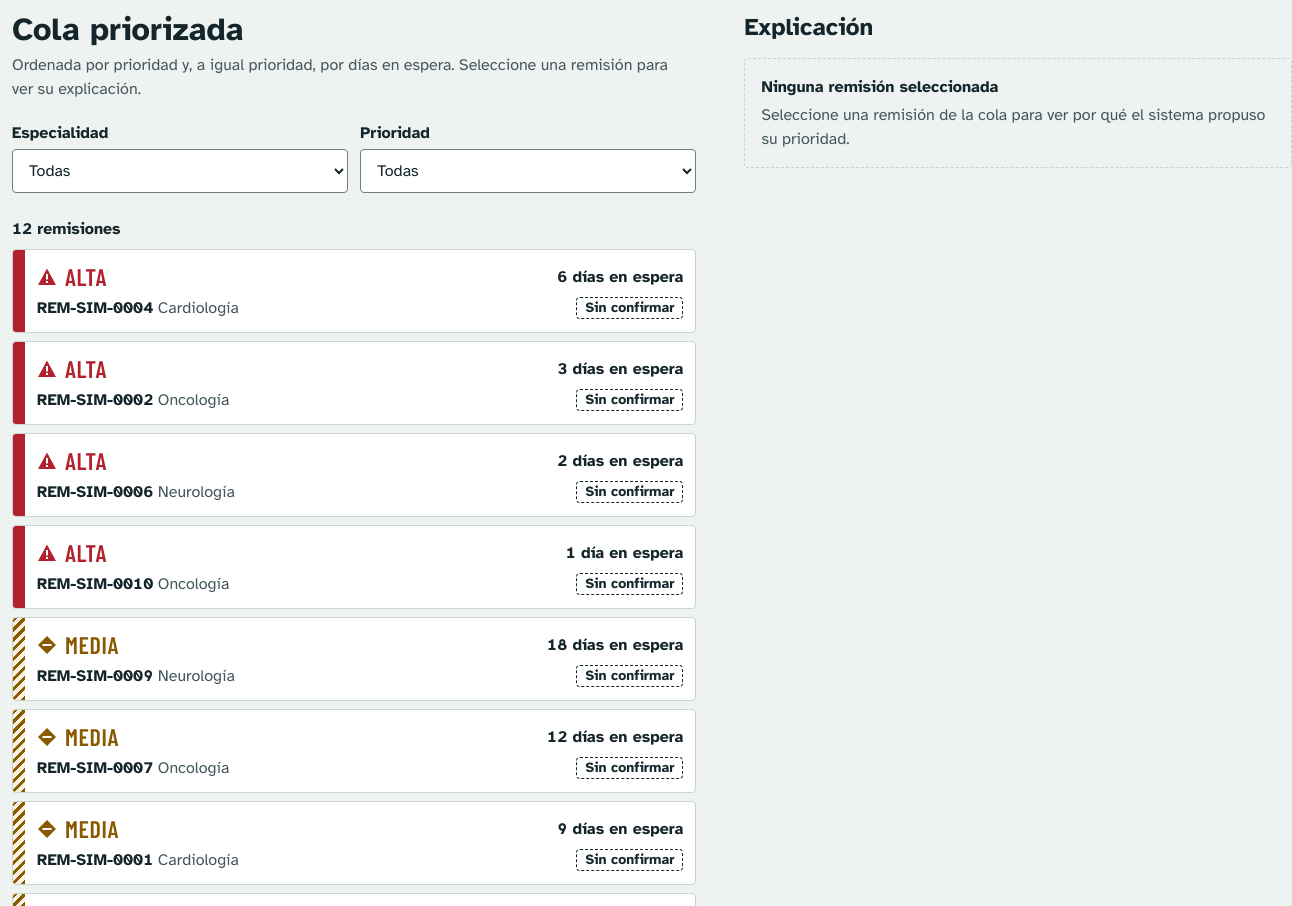
Test: Cola priorizada › filtra por especialidad y prioridad
The image size is (1292, 906).
Select "Oncología" in the dropdown labelled "Especialidad" at (180, 171), box [12, 149, 348, 193]
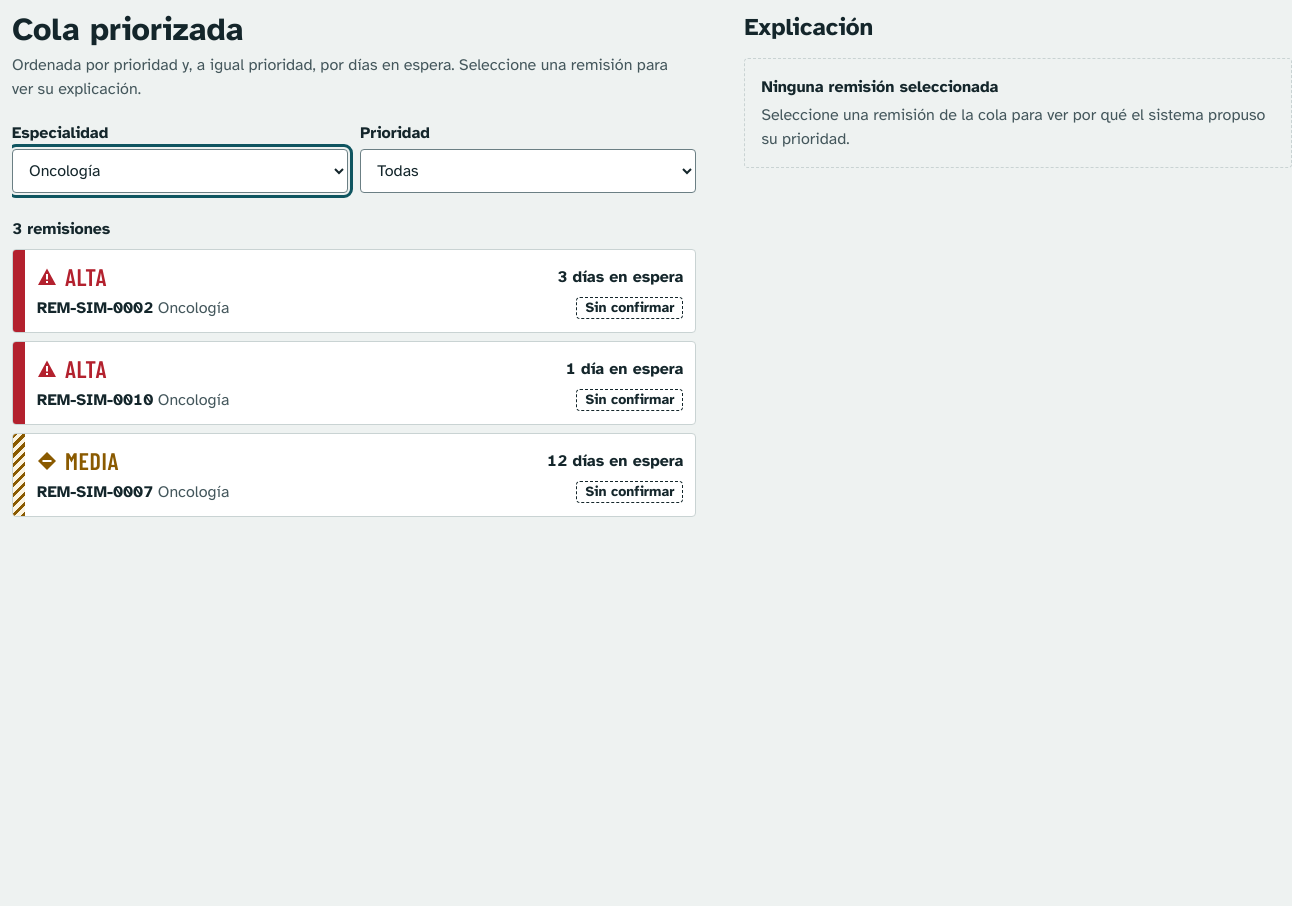
Select "Alta" in the dropdown labelled "Prioridad" at (528, 171), box [360, 149, 696, 193]
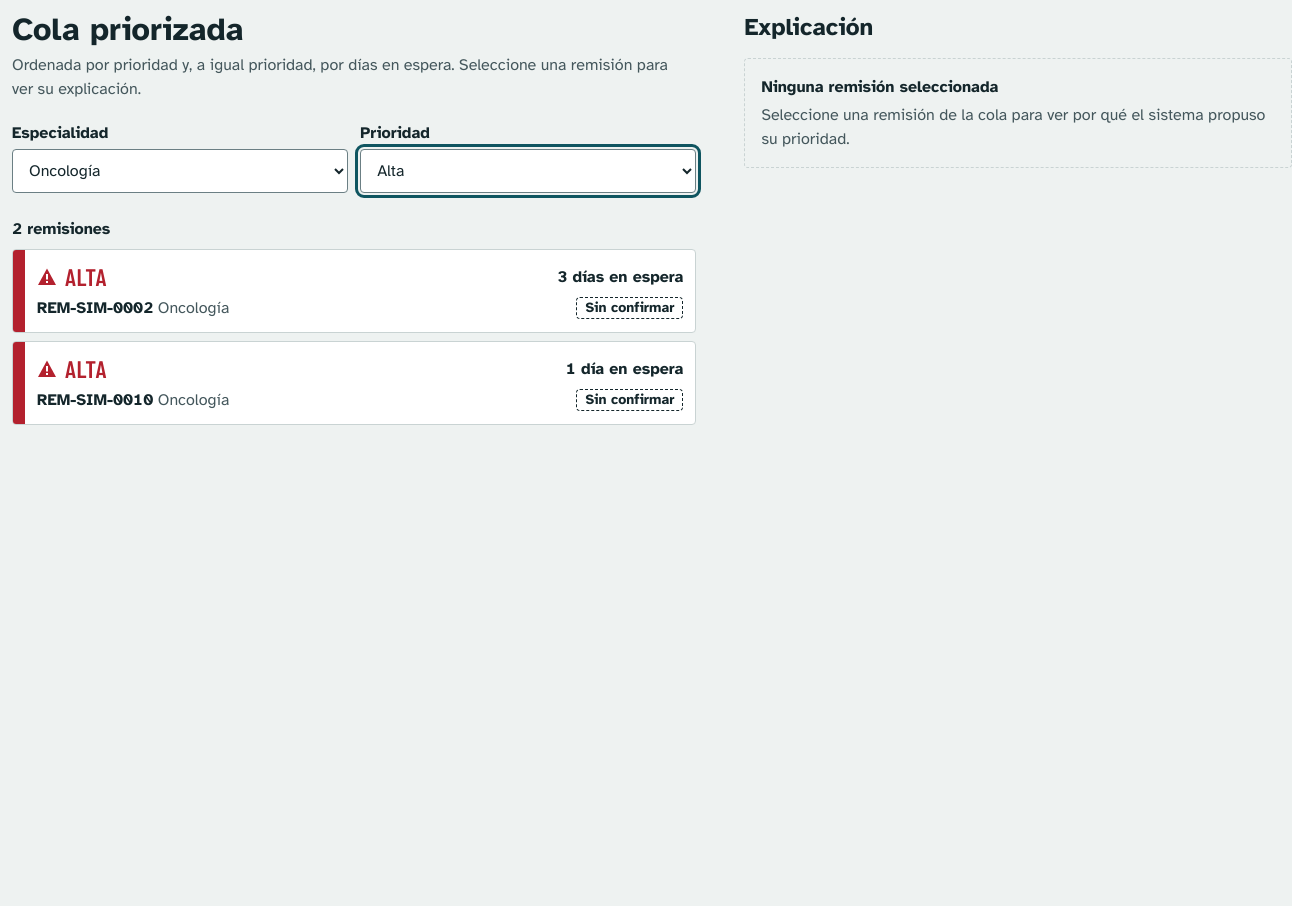
Expected: the list item "ALTA 3 días en espera REM-SIM-0002 Oncología Sin confirmar" is shown, [12, 249, 696, 333]
Now the text "2 remisiones" is shown, box [12, 219, 110, 239]
Now the number of list items is 2, box [12, 249, 696, 333]; [12, 341, 696, 425]
